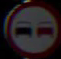No overtake: (4, 4, 57, 47)
